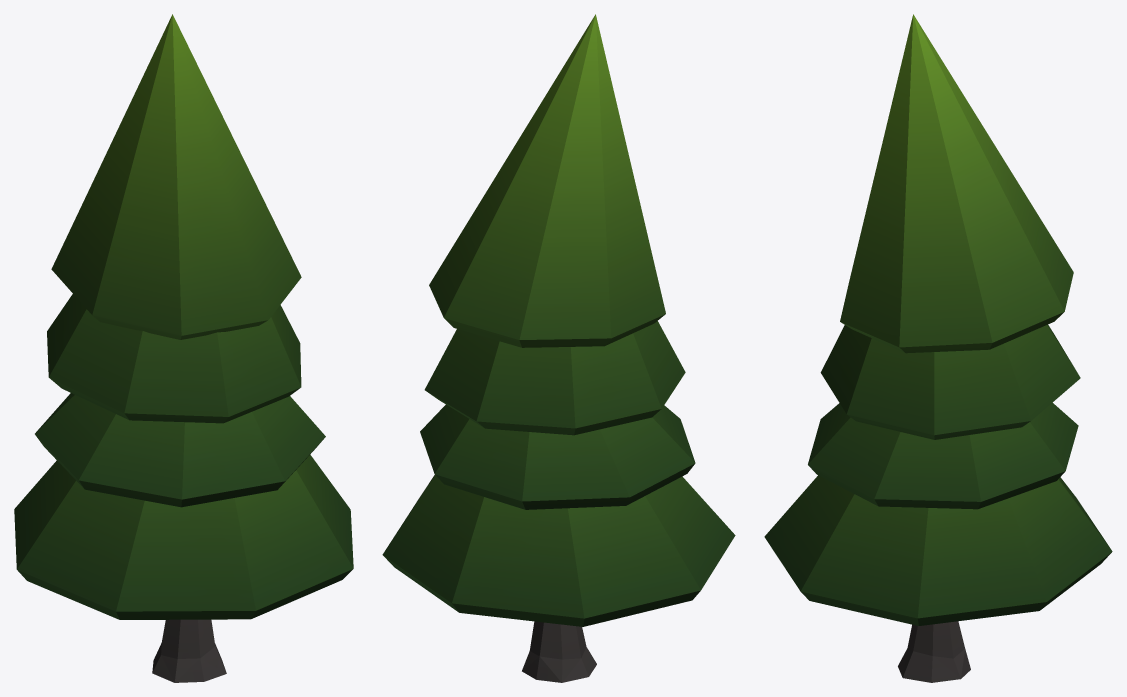
File: PineTree_E.fbx
3 renders of one model, left to right at view 1: azimuth 30°, elevation 25°; view 2: azimuth 150°, elevation 25°; view 3: azimuth 270°, elevation 25°, orthographic. The views are drawn at different scales.
Visible parts, largest first — view 1: PineTree_E; view 2: PineTree_E; view 3: PineTree_E.
Part boxes in pixels (x1,y1,x2,y2): PineTree_E: [14, 14, 353, 682]; PineTree_E: [382, 14, 735, 682]; PineTree_E: [764, 14, 1112, 682].
Size of the model in its own units: 287 by 586 by 288.
